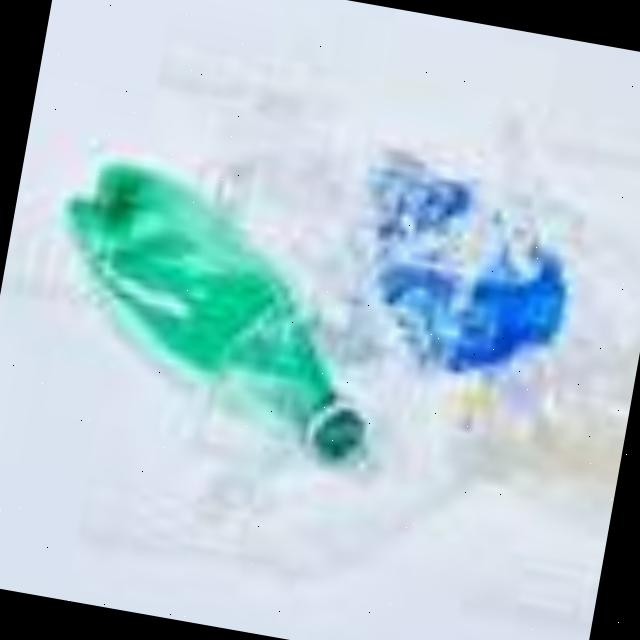trash: (22, 139, 438, 498)
